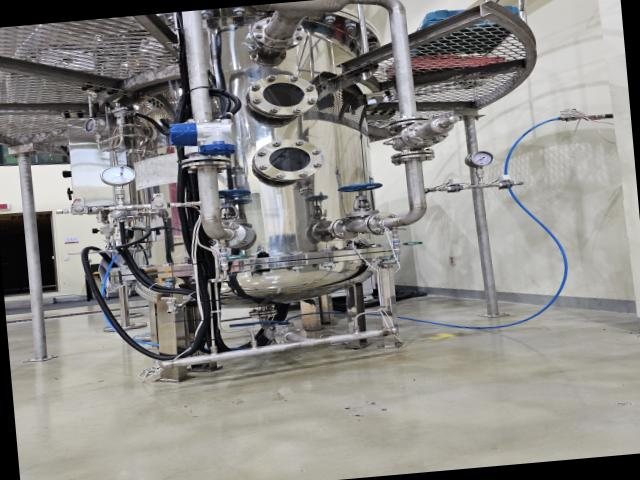Flange: (245, 69, 323, 122), (249, 134, 326, 186)
Flush Ring: (246, 12, 306, 52), (175, 150, 236, 174), (204, 218, 248, 248), (383, 112, 438, 132), (328, 214, 364, 241), (361, 210, 397, 237), (387, 147, 438, 165), (271, 325, 311, 345)
GasRegulator: (78, 100, 160, 158)
Nuts: (488, 174, 522, 192), (145, 196, 179, 212), (440, 180, 474, 196), (65, 202, 97, 216)
Piston Valve: (336, 175, 387, 215), (217, 185, 255, 220)
Pressure Gage: (97, 161, 143, 208), (460, 148, 498, 182)
